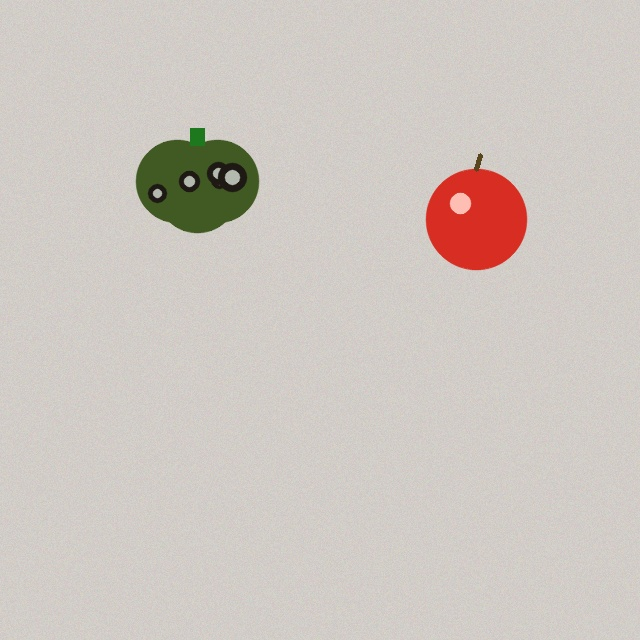Fresh apple: (426, 155, 526, 269)
Rotten bell pepper: (136, 128, 258, 232)
